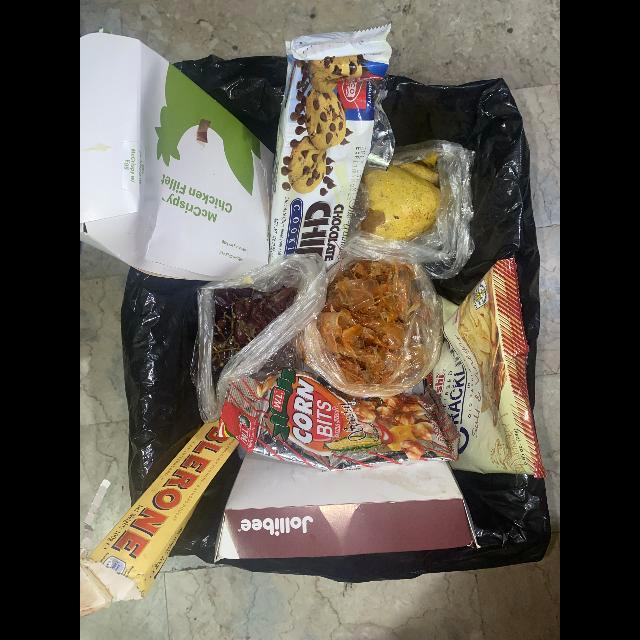cardboard: (80, 32, 275, 281), (80, 417, 240, 617), (214, 451, 479, 563)
food_wrapper: (270, 24, 395, 272), (428, 257, 548, 478), (216, 368, 461, 472)
left_over_food: (318, 260, 412, 384)
plastic_bag: (190, 253, 328, 425), (342, 139, 475, 280)
